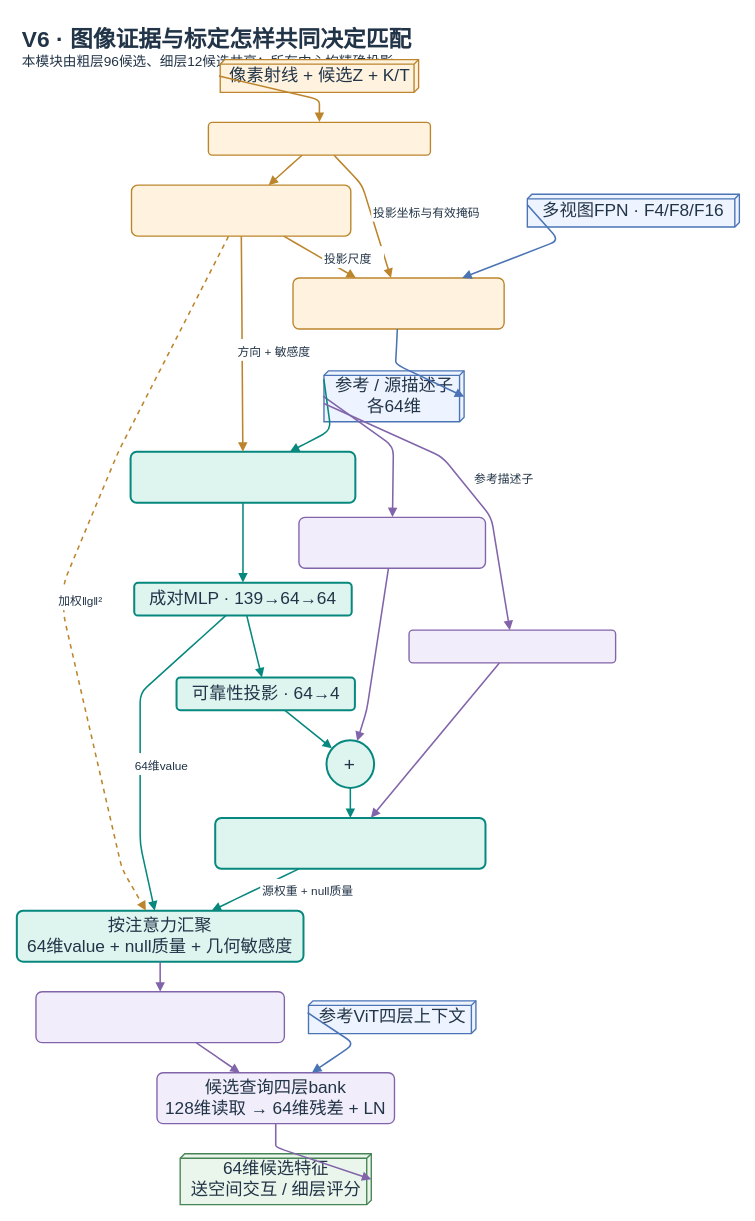
The diagram is 755 pixels wide and 1221 high, and some of its shapes have lost their labels. The shapes that lost their labels are listed below. From the top down, each one's centre as x and y in pixels, then its label:
(x=319, y=138): 反投影到3D → 精确重投影
(x=240, y=210): 解析投影导数 g = ∂π/∂Z 方向2维 + 区间位移1维
(x=398, y=303): 投影足迹选择特征尺度 grid_sample + L2归一化
(x=242, y=476): 乘积64 + 绝对差64 + 相关8 拼入3维标尺 → 139维
(x=392, y=542): Q/K投影64→64 4头内容分数 Q·K / 4
(x=512, y=646): 参考特征 → 4个null分数
(x=350, y=842): 源视图 + null的masked softmax 屏蔽几何无效源
(x=160, y=1017): 66→64→64证据编码 加入3→64→64的log深度编码
